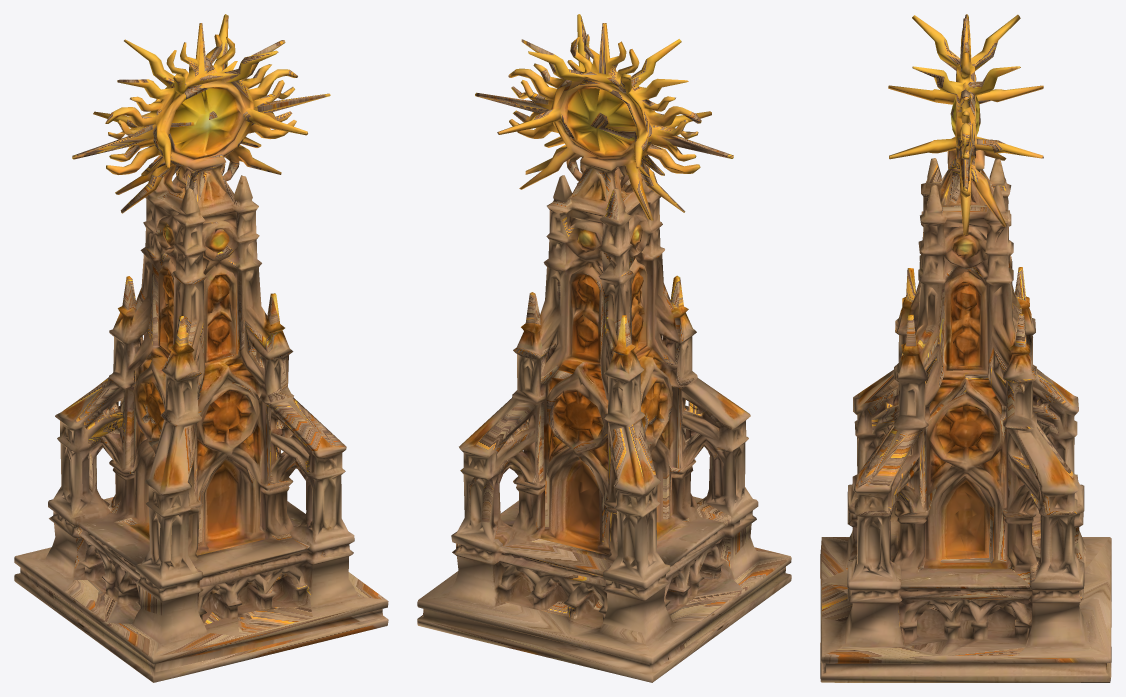
3 views of the same model, side by side, from view 1: azimuth 30°, elevation 25°; view 2: azimuth 150°, elevation 25°; view 3: azimuth 270°, elevation 25° (orthographic). The views are drawn at different scales.
Visible parts, largest first — view 1: Untitled_2; view 2: Untitled_2; view 3: Untitled_2.
Boxes of the visible parts, left/top/right/bottom form: Untitled_2: left=14, top=14, right=388, bottom=682; Untitled_2: left=417, top=14, right=791, bottom=682; Untitled_2: left=820, top=14, right=1111, bottom=682.
Size of the model in its own units: 0.9287 by 2 by 0.8719.
Materials: 1 (1 with a texture image).
